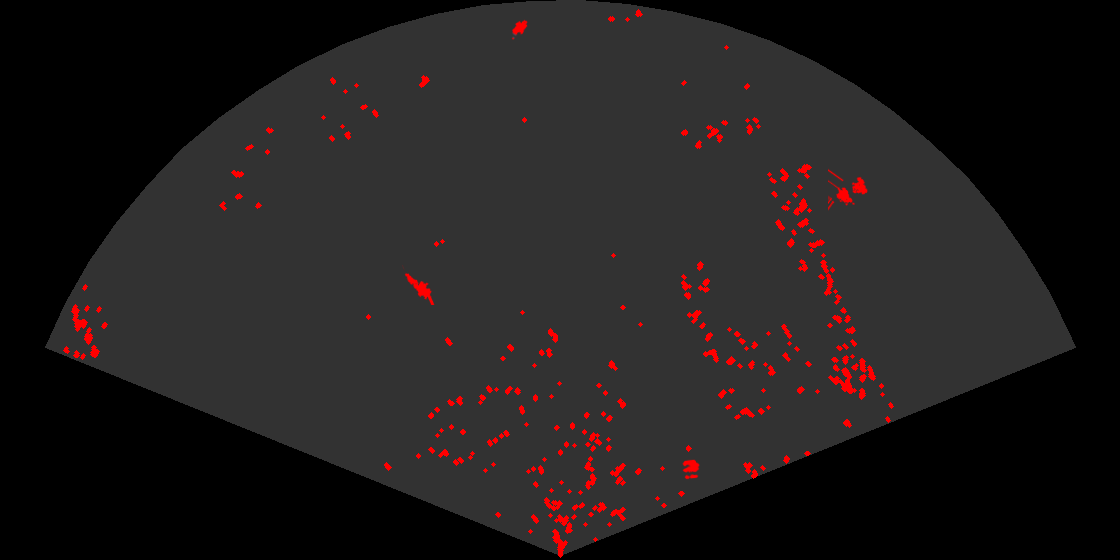AUV: (510, 18, 529, 41)
ball: (681, 458, 701, 481)
cage: (828, 167, 869, 212)
frogman: (402, 265, 436, 305)
